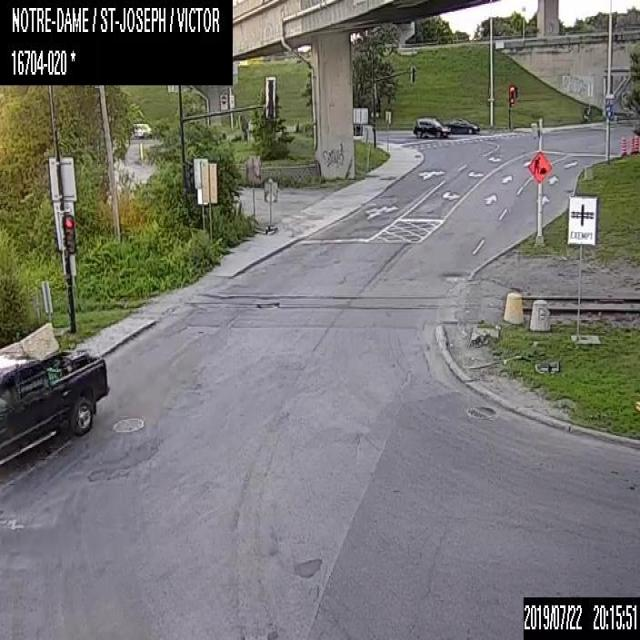construction: (527, 150, 551, 181), (620, 135, 626, 154), (633, 135, 639, 151), (629, 136, 634, 152)
vehicle: (0, 345, 108, 463), (412, 117, 450, 137), (445, 116, 479, 134), (132, 122, 151, 137)
